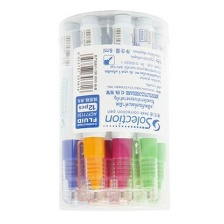book: (54, 7, 172, 212)
correction_fluid: (74, 13, 107, 204), (58, 21, 88, 208), (107, 13, 135, 208), (132, 16, 160, 205)
